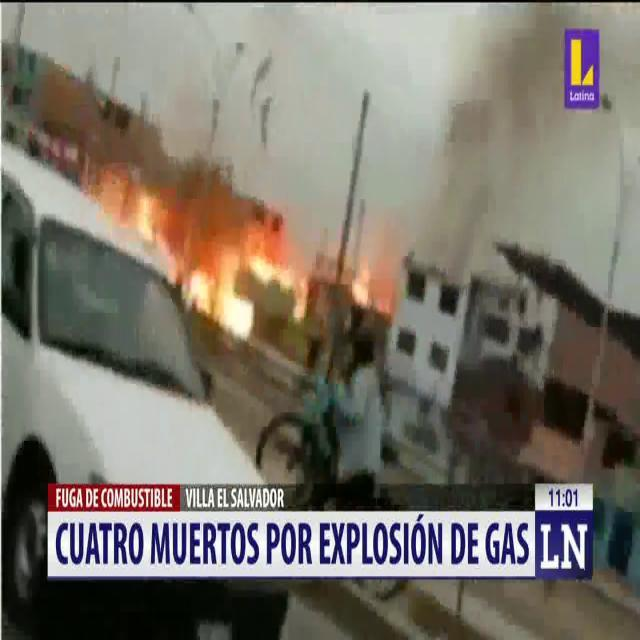Fire: (186, 218, 301, 340), (76, 160, 187, 286)
Smoke: (409, 2, 640, 277)
